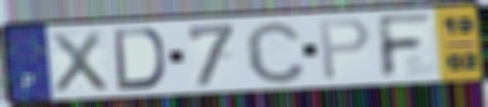7: (185, 22, 236, 88)
C: (242, 18, 309, 86)
D: (112, 26, 169, 92)
F: (374, 11, 436, 81)
P: (316, 17, 373, 83)
X: (48, 29, 112, 96)
